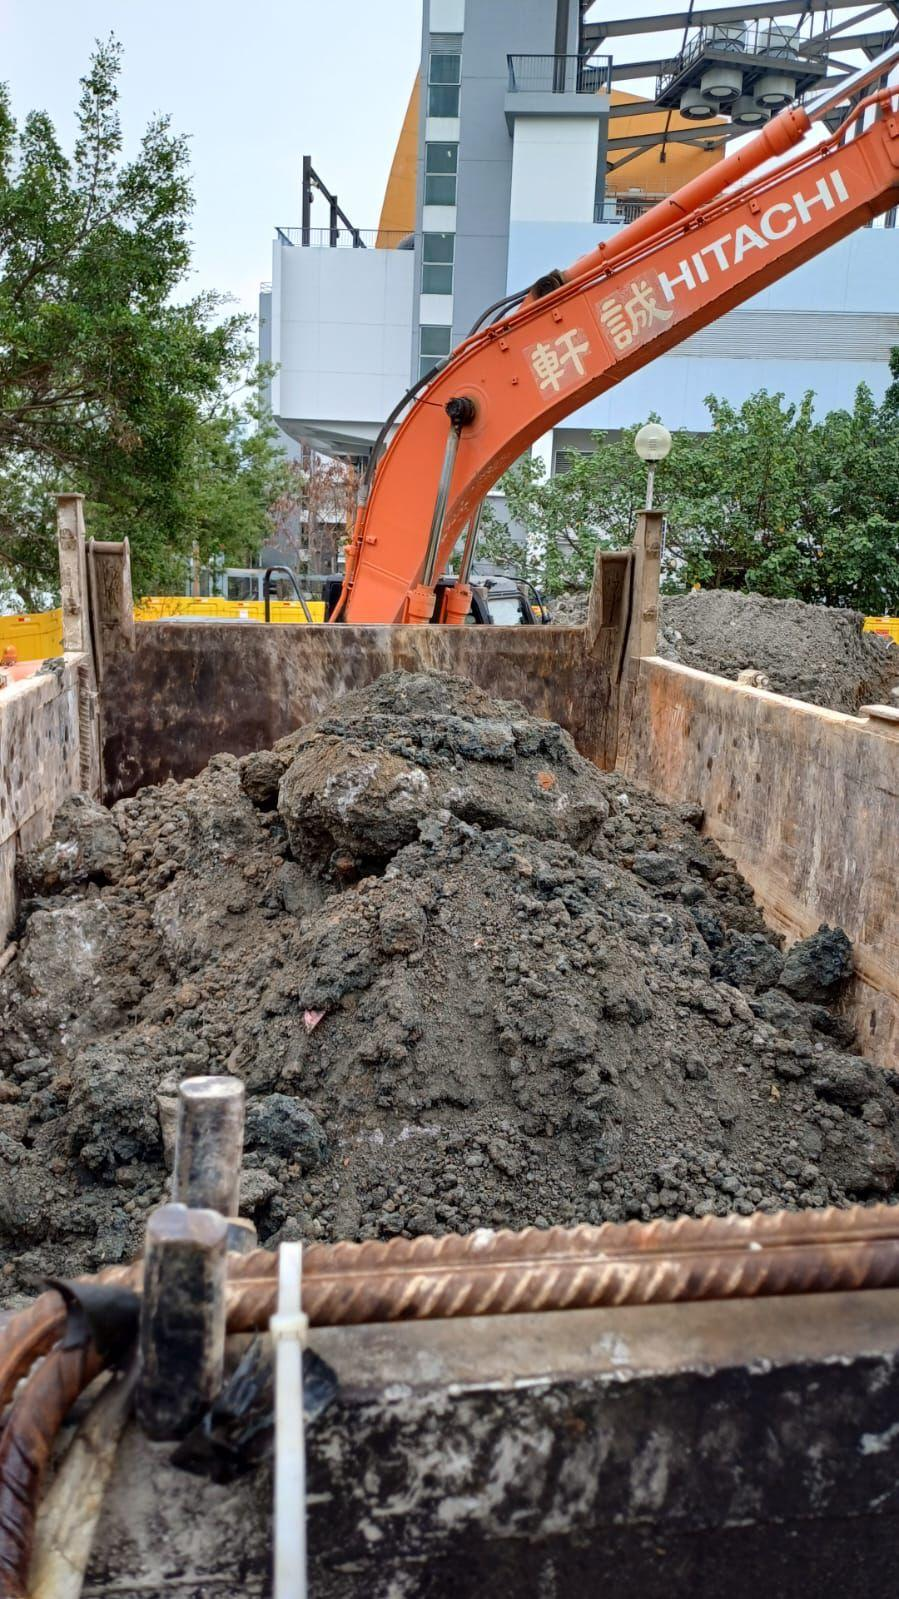wet: (27, 658, 890, 1250)
